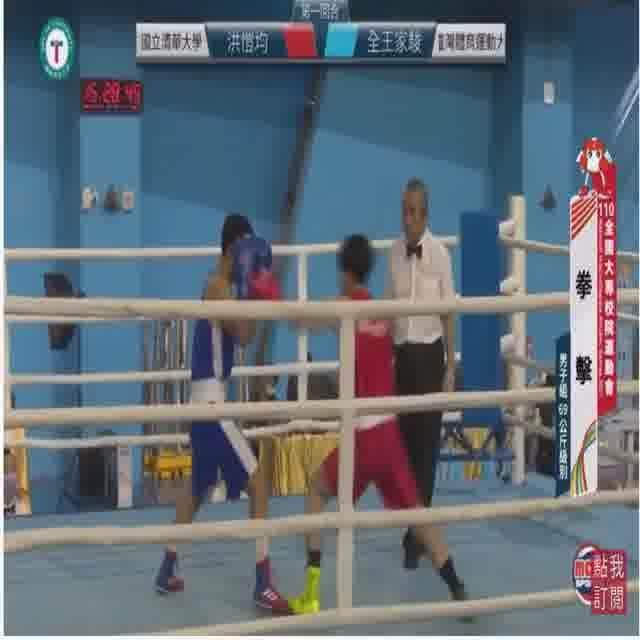blue-player: (153, 212, 296, 614)
red-player: (246, 232, 473, 628)
referee: (374, 180, 461, 573)
